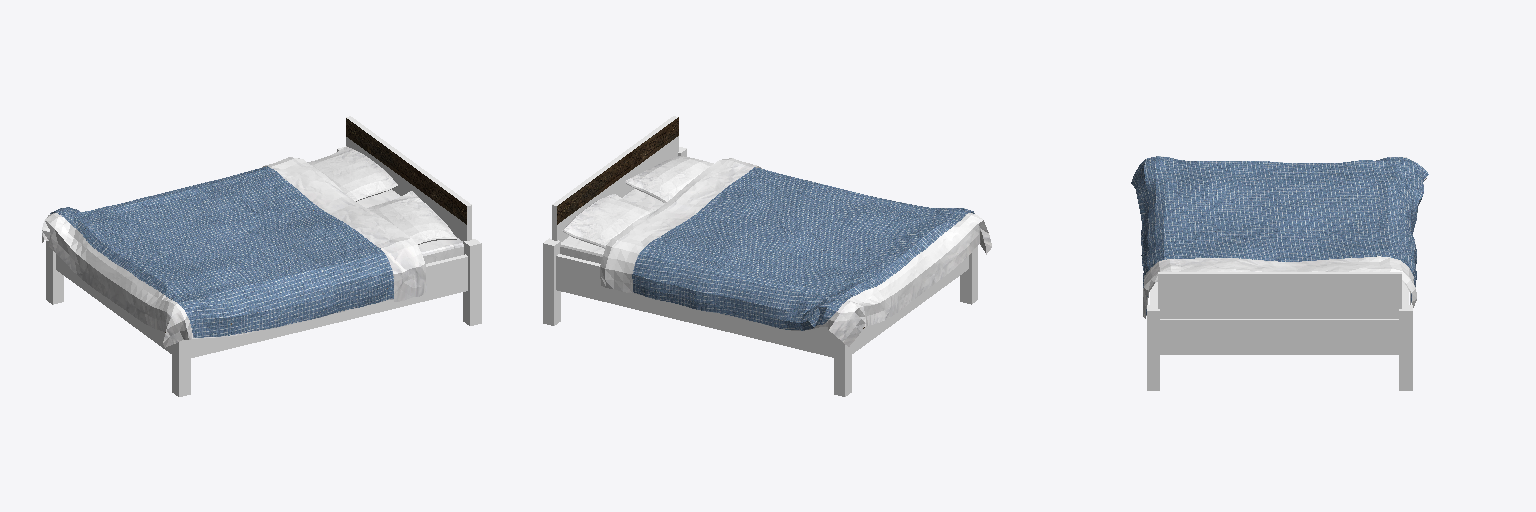
The picture shows the model from 3 angles: view 1: azimuth 30°, elevation 25°; view 2: azimuth 150°, elevation 25°; view 3: azimuth 270°, elevation 25°; orthographic projection.
Visible parts, largest first — view 1: Object01, Plane02, Box08, Box15, Box16, Bedornament01, Box04, Box06, Box02, ChamferBox01, Box03, Box01; view 2: Object01, Plane02, Box07, Box15, Bedornament01, Box04, Box16, Box05, Box02, ChamferBox01, Box01, Box03; view 3: Object01, Box04, Plane02, Box05, Box06.
Boxes of the visible parts, box(x1,y1,x2,y2) form: Object01: box(50, 166, 393, 337); Plane02: box(42, 157, 426, 347); Box08: box(191, 254, 467, 357); Box15: box(307, 146, 397, 201); Box16: box(367, 191, 456, 244); Bedornament01: box(165, 118, 466, 332); Box04: box(346, 116, 471, 240); Box06: box(463, 239, 481, 325); Box02: box(56, 254, 171, 353); ChamferBox01: box(357, 189, 463, 263); Box03: box(172, 340, 190, 396); Box01: box(46, 241, 63, 304); Object01: box(632, 167, 974, 330); Plane02: box(600, 158, 991, 346); Box07: box(556, 254, 833, 357); Box15: box(562, 194, 655, 248); Bedornament01: box(557, 117, 864, 328); Box04: box(552, 116, 678, 240); Box16: box(625, 156, 713, 202); Box05: box(543, 238, 560, 325); Box02: box(852, 256, 968, 353); ChamferBox01: box(560, 156, 677, 263); Box01: box(834, 335, 851, 396); Box03: box(960, 246, 977, 304); Object01: box(1131, 156, 1428, 314); Box04: box(1158, 272, 1401, 354); Plane02: box(1143, 156, 1426, 318); Box05: box(1399, 305, 1412, 390); Box06: box(1147, 305, 1159, 390).
Bounding box in the file's own units: 2.17 × 0.7529 × 1.77.
5 materials, 3 textured.